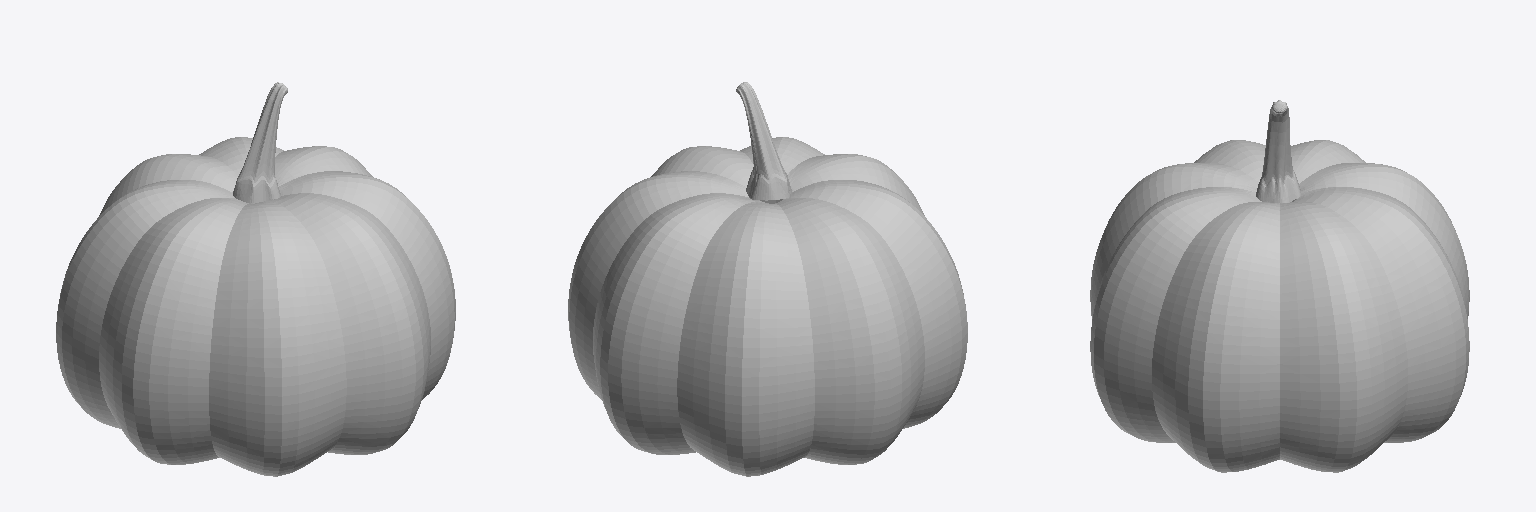
File: Pumpkin.obj
3 renders of one model, left to right at view 1: azimuth 30°, elevation 25°; view 2: azimuth 150°, elevation 25°; view 3: azimuth 270°, elevation 25°, orthographic.
Parts seen in each view (by area): view 1: Sphere.001; view 2: Sphere.001; view 3: Sphere.001.
Boxes of the visible parts, x1=… form: Sphere.001: x1=56, y1=82, x2=455, y2=476; Sphere.001: x1=568, y1=82, x2=967, y2=476; Sphere.001: x1=1090, y1=100, x2=1469, y2=472.
Bounding box in the file's own units: 3.02 × 2.94 × 3.02.